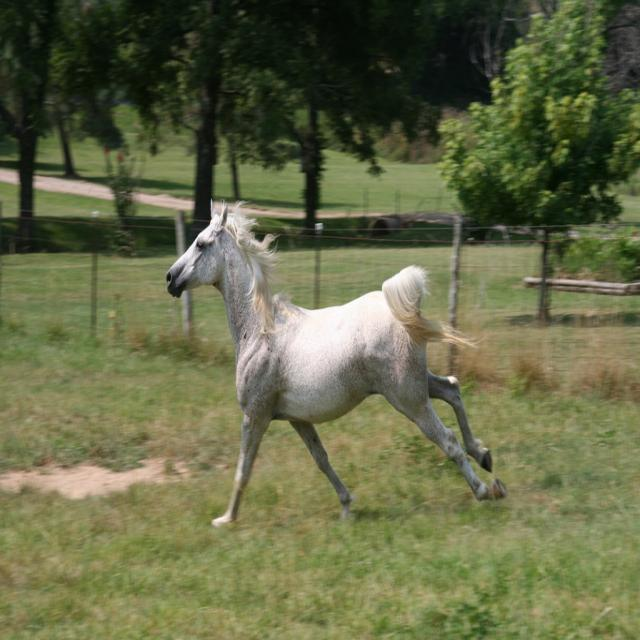Horse: (164, 197, 508, 528)
